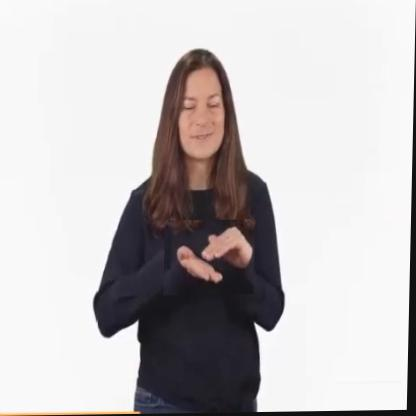ExcuseMe: (165, 220, 256, 296)
